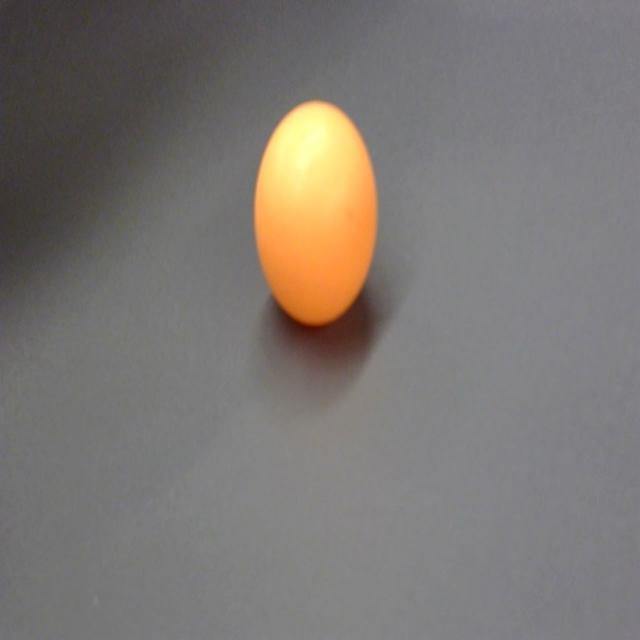ball: (252, 94, 381, 331)
